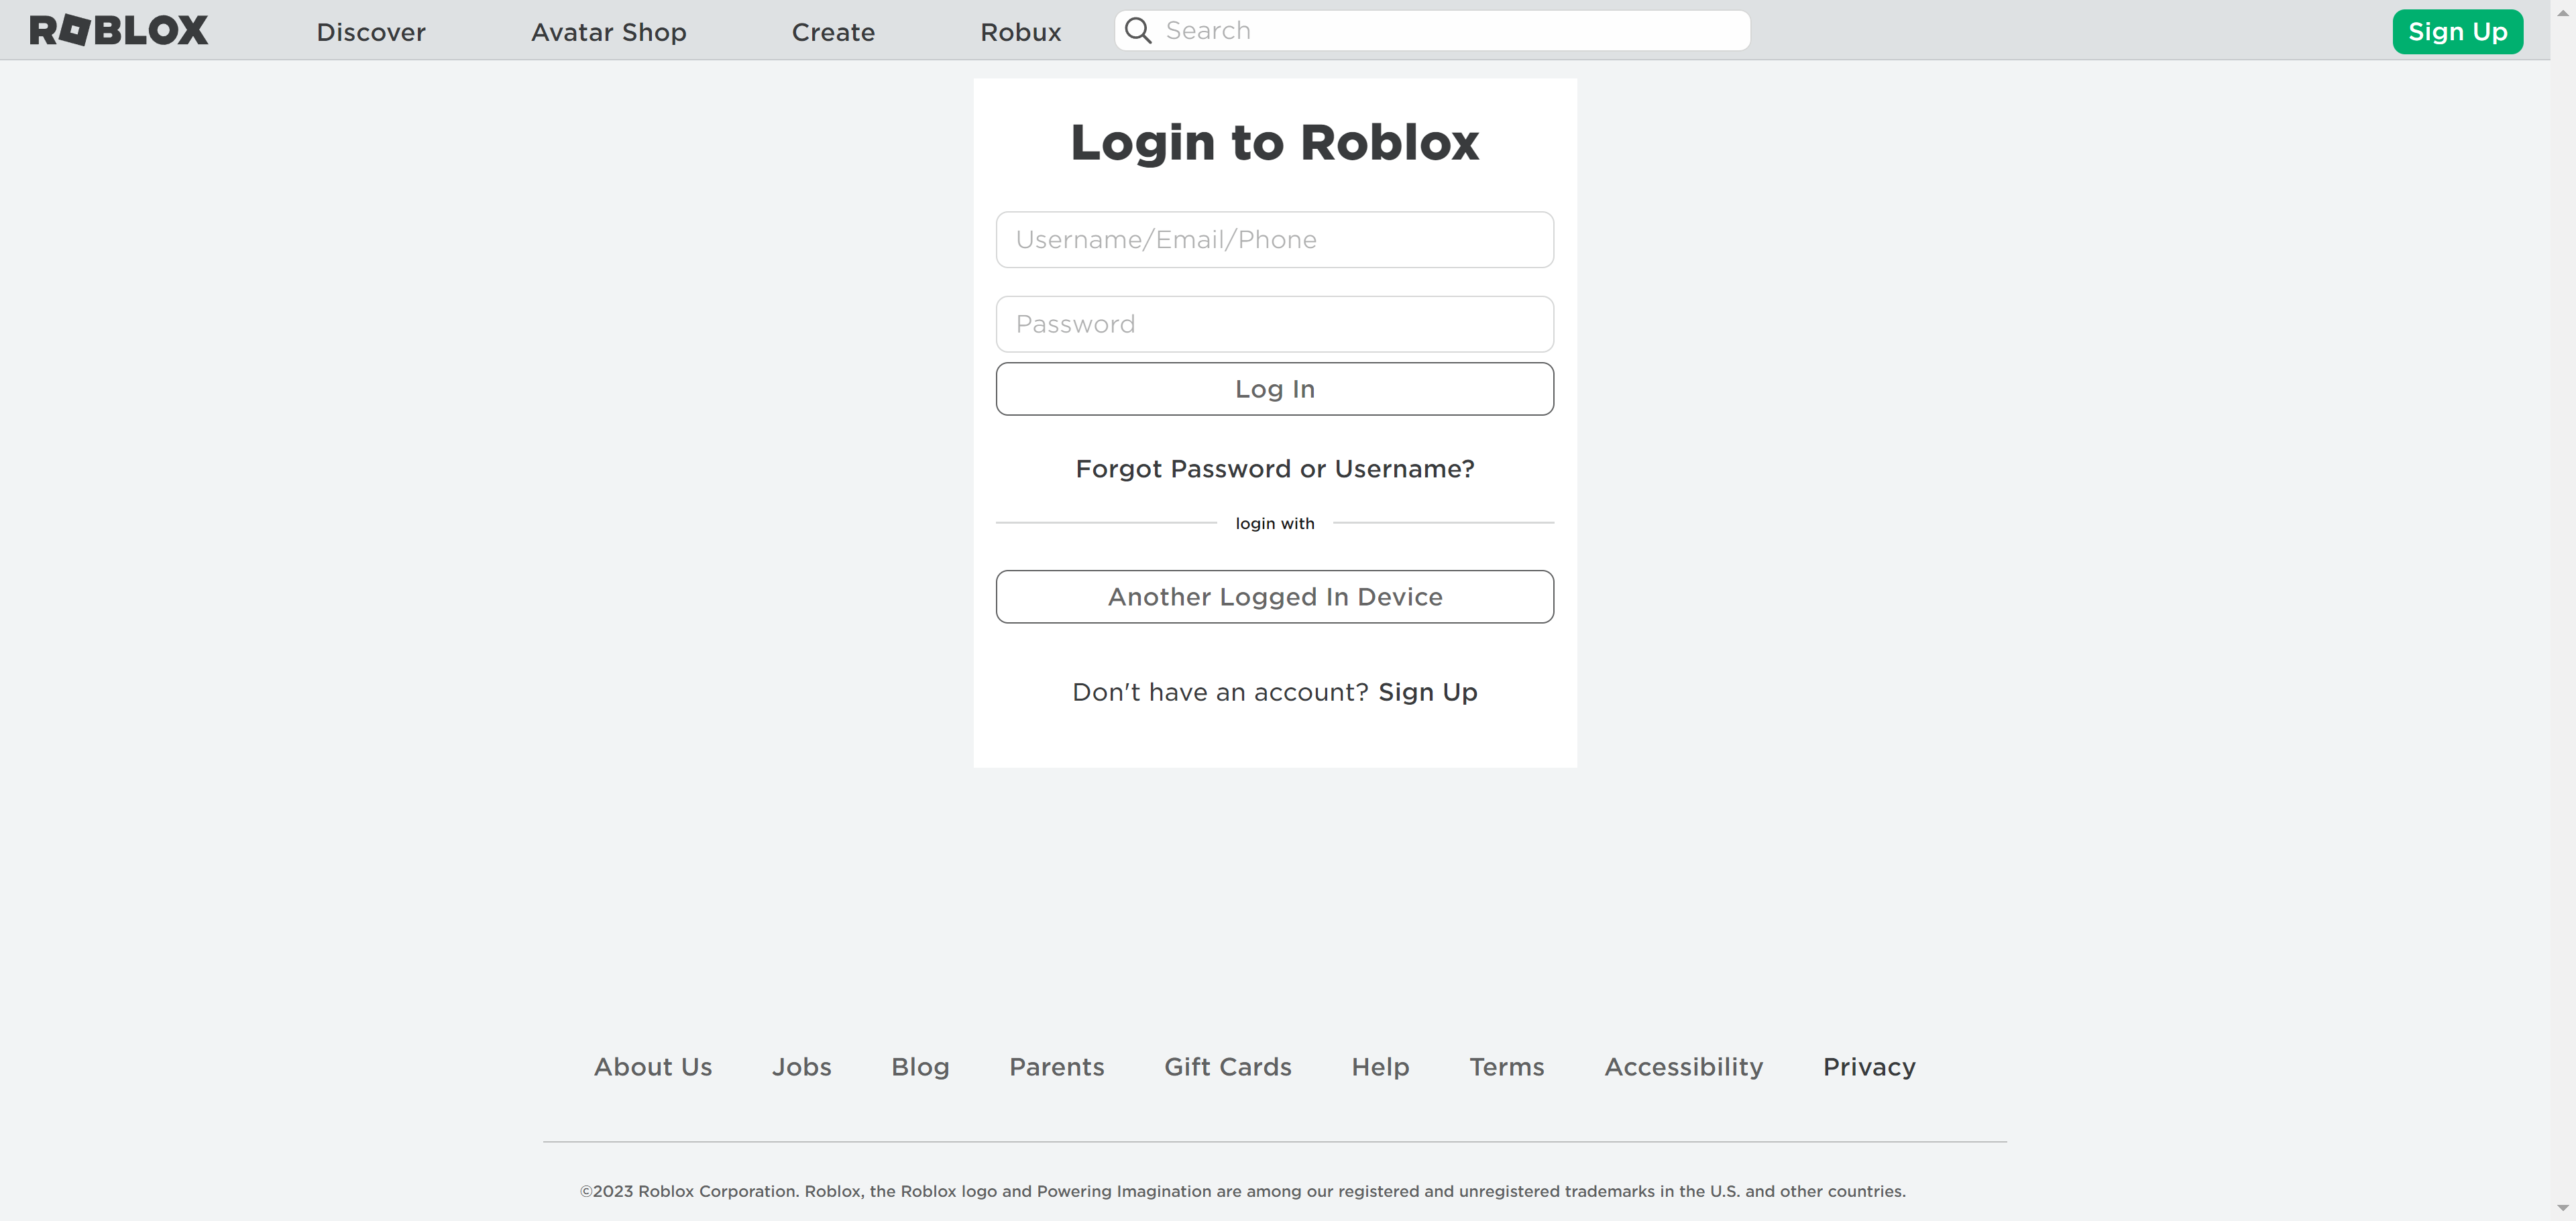login_button: (996, 362, 1554, 414)
login_form: (991, 207, 1561, 421)
